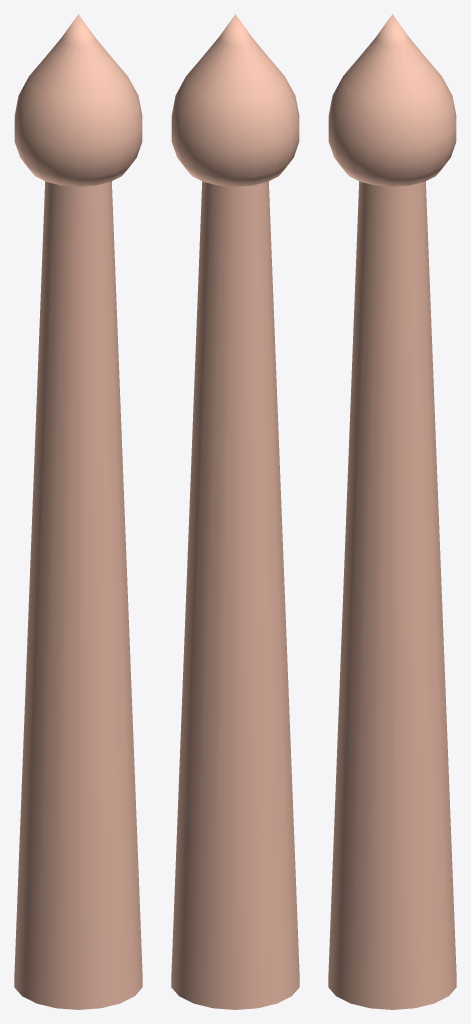
The model's file is Castillo_PilarB.fbx.
3 renders of one model, left to right at view 1: azimuth 30°, elevation 25°; view 2: azimuth 210°, elevation 25°; view 3: azimuth 270°, elevation 25°, orthographic.
Visible parts, largest first — view 1: Castillo_PilarB; view 2: Castillo_PilarB; view 3: Castillo_PilarB.
Boxes of the visible parts, box(x1,y1,x2,y2) form: Castillo_PilarB: box(14, 14, 142, 1009); Castillo_PilarB: box(171, 14, 299, 1009); Castillo_PilarB: box(328, 14, 456, 1009).
Size of the model in its own units: 4689 by 38439 by 4618.
